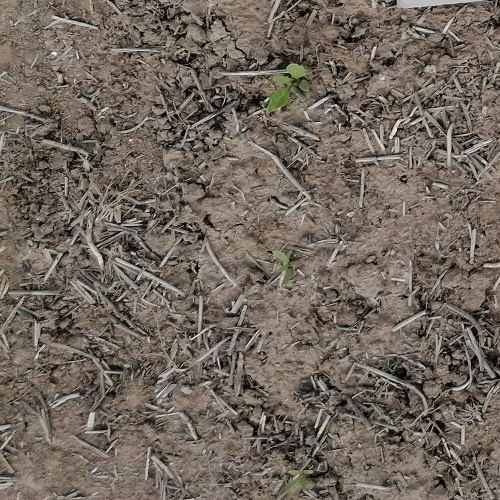beet: (267, 63, 310, 115), (274, 248, 298, 290), (279, 471, 312, 496)
